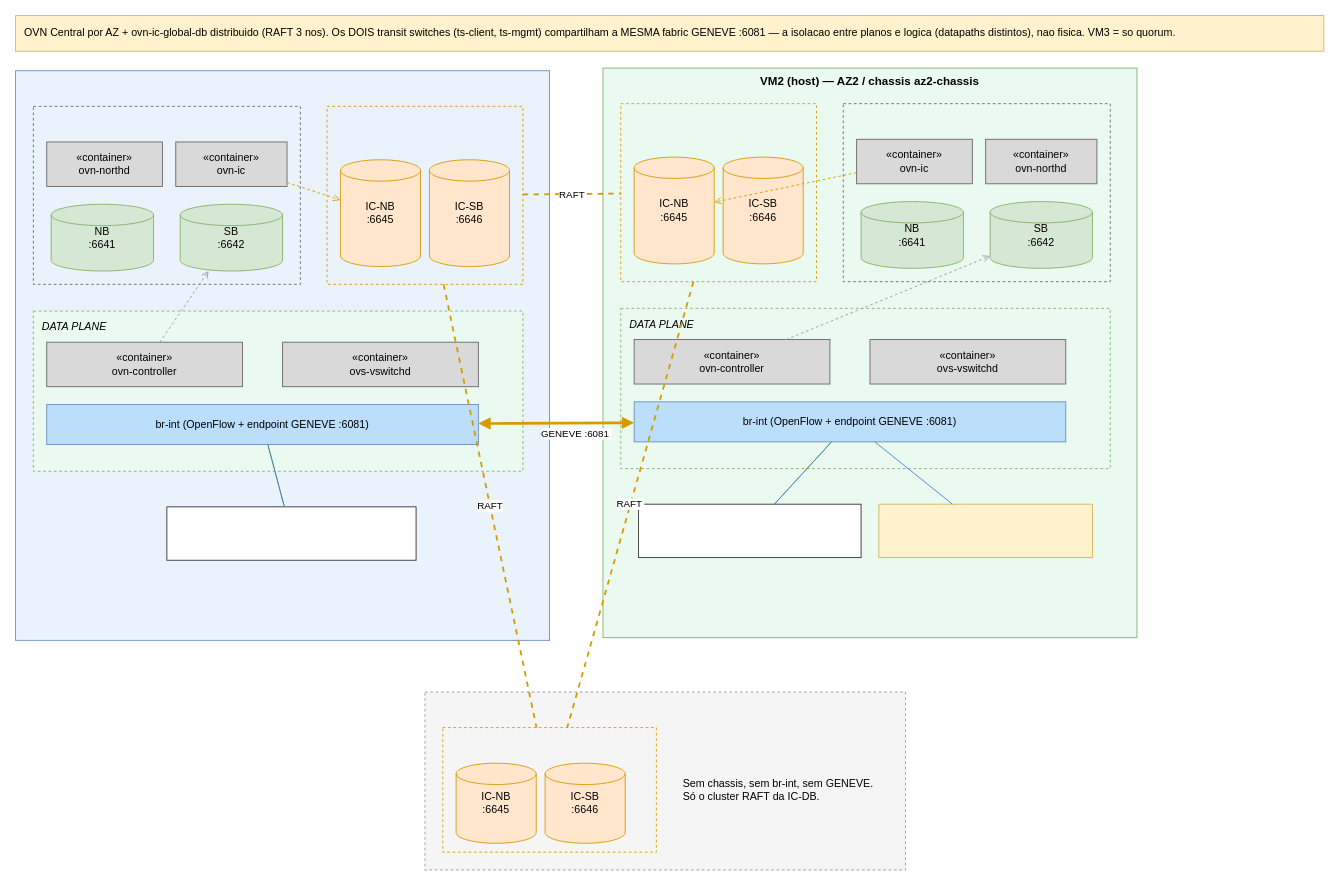
The diagram is 1339 pixels wide and 886 high, and some of its shapes have lost their labels. The box of each missing label's shape, as (x1, y1, x2, y2) in pixels:
app-vm-1 (Incus) — 2 NICs client 10.10.1.10 | mgmt 10.20.1.10: (166, 506, 416, 560)
app-vm-2 (Incus) — 2 NICs client 10.10.2.20 | mgmt 10.20.2.20: (638, 503, 861, 558)
db-vm (Incus) — 1 NIC mgmt 10.20.2.10 Postgres: (878, 503, 1092, 558)
OVN Central (AZ1): (32, 105, 300, 284)
OVN Central (AZ2): (842, 103, 1110, 282)
ovn-ic-global-db (member 1): (326, 105, 523, 284)
ovn-ic-global-db (member 2): (620, 103, 817, 282)
ovn-ic-global-db (member 3): (442, 727, 656, 852)
VM1 (host) — AZ1 / chassis az1-chassis: (15, 70, 550, 640)
VM3 (host) — árbitro de quorum: (424, 691, 906, 870)
